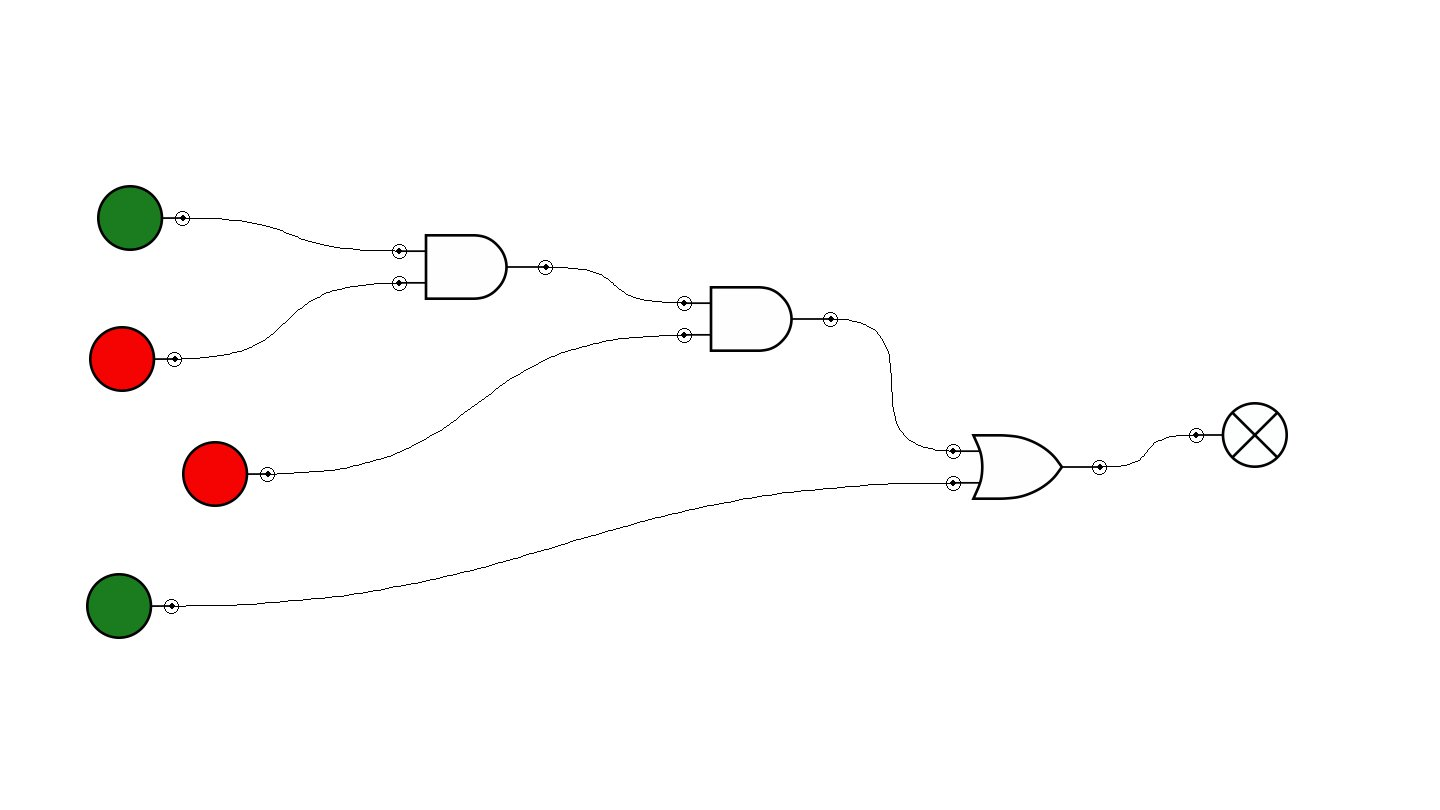and: (677, 286, 838, 352), (392, 234, 553, 300)
bulb: (1189, 402, 1288, 468)
or: (946, 434, 1107, 500)
switch_False: (182, 441, 275, 507), (89, 326, 182, 392)
switch_True: (86, 573, 179, 639), (97, 185, 190, 251)
